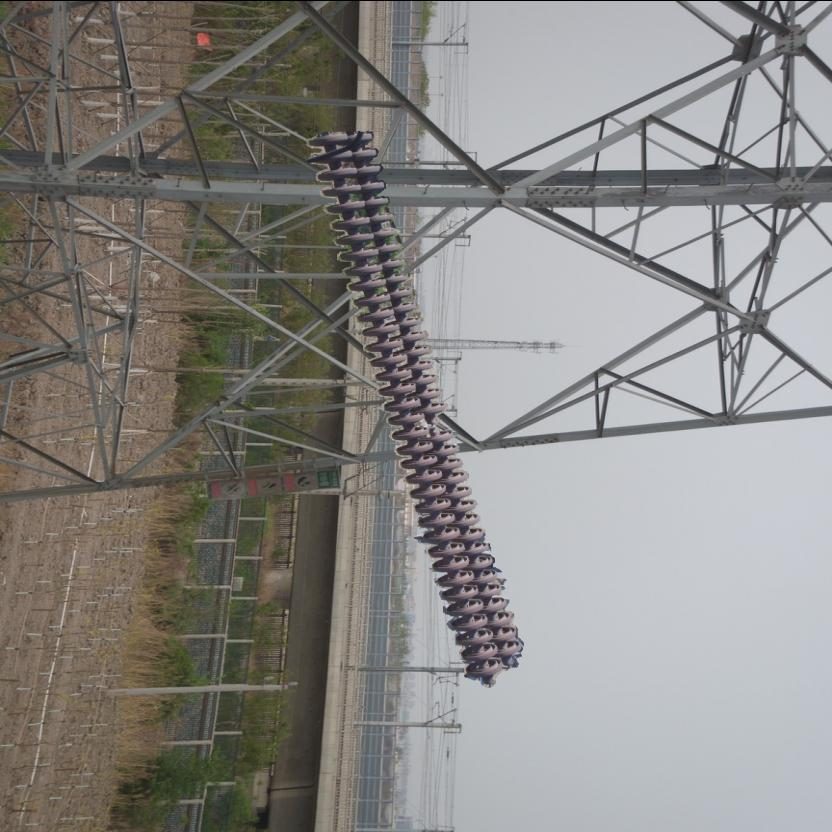defect: (419, 397, 457, 443)
